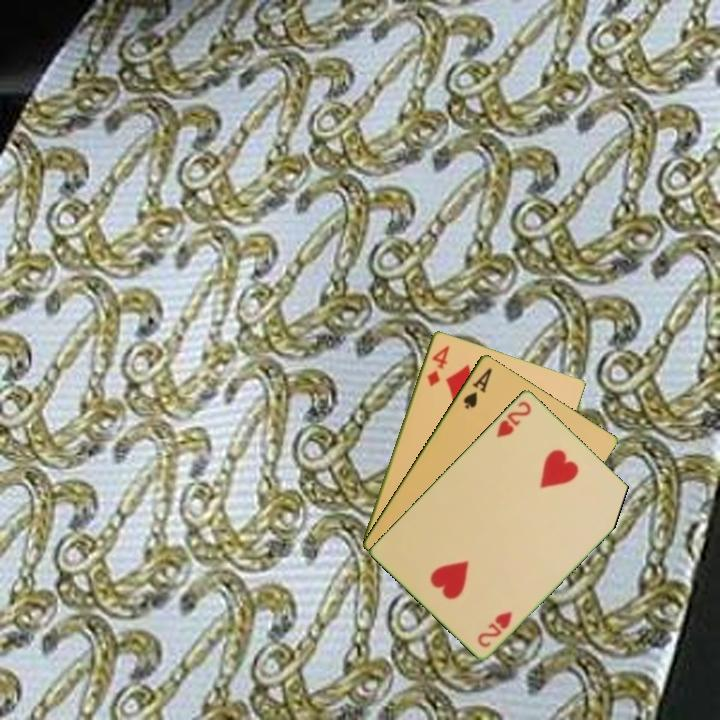2h: (493, 397, 534, 440), (474, 607, 515, 650)
4d: (423, 341, 452, 389)
As: (459, 364, 495, 412)
